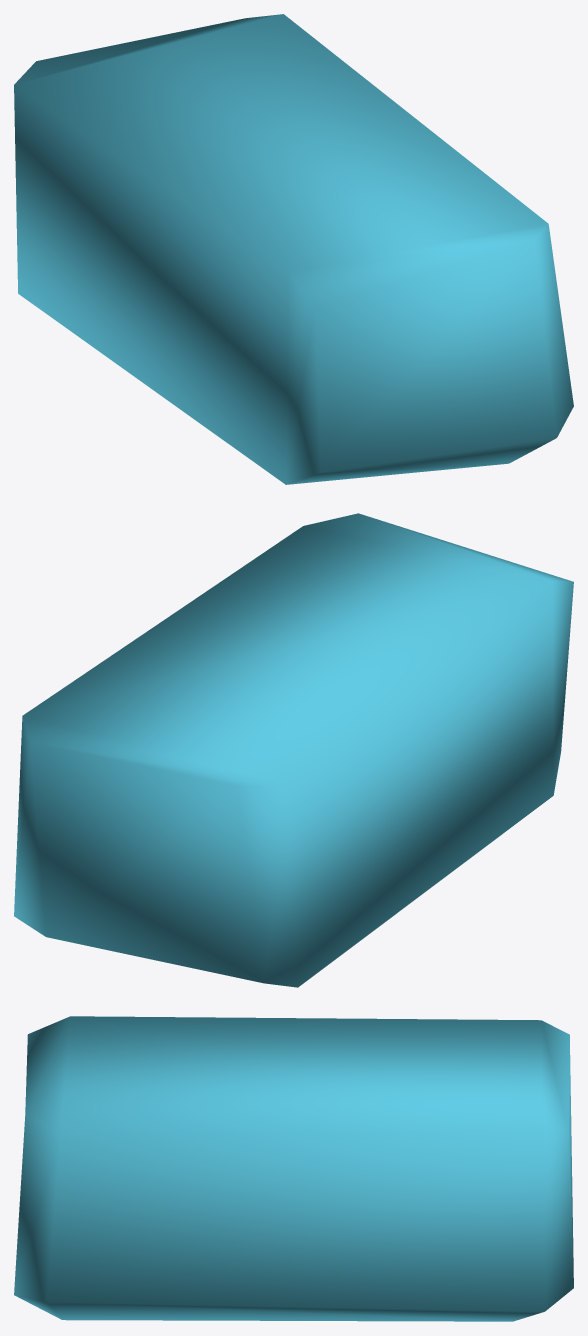
The model's file is brick_09.FBX.
3 views of the same model, one above another, from view 1: azimuth 30°, elevation 25°; view 2: azimuth 150°, elevation 25°; view 3: azimuth 270°, elevation 25° (orthographic). The views are drawn at different scales.
Parts seen in each view (by area): view 1: brick_09; view 2: brick_09; view 3: brick_09.
Part boxes in pixels (<box>): brick_09: <box>14,14,573,484</box>; brick_09: <box>14,513,573,987</box>; brick_09: <box>14,1016,573,1321</box>.
Size of the model in its own units: 10.14 by 7.77 by 19.94.
